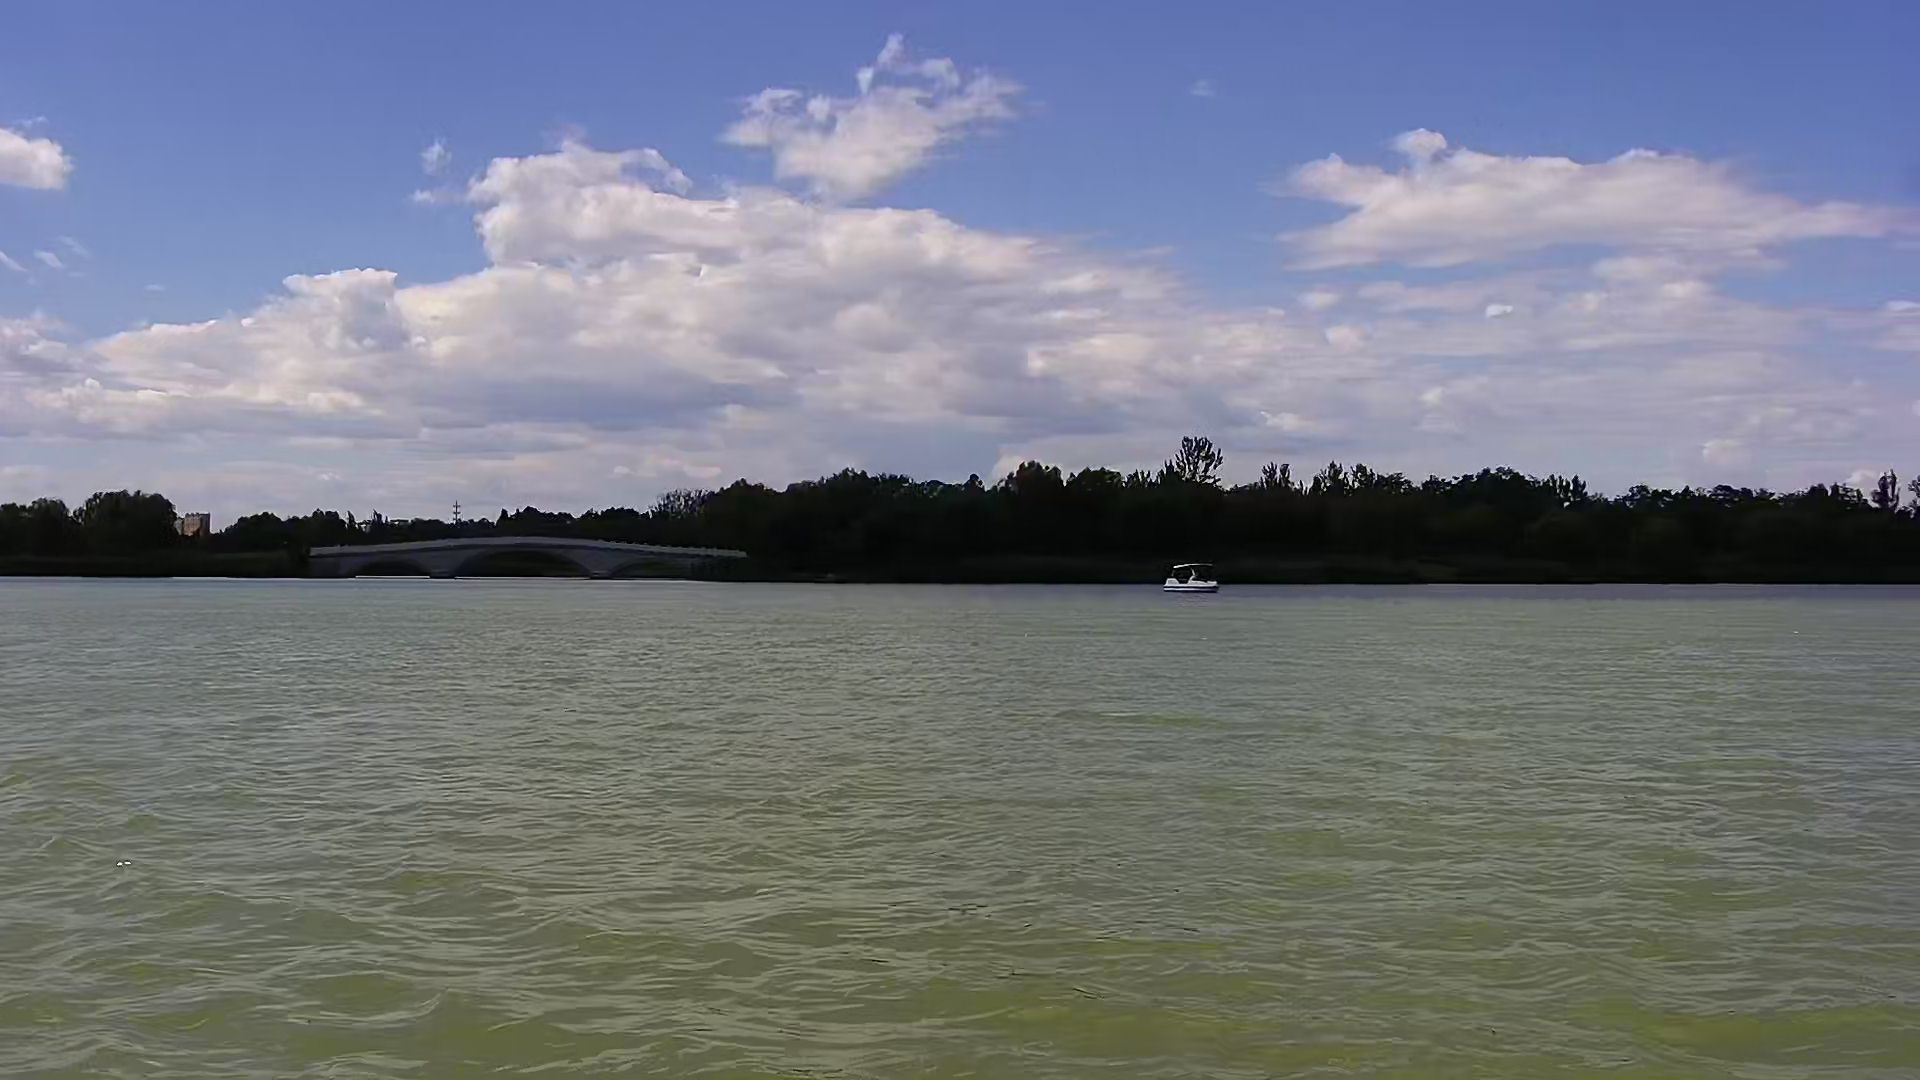boat: (1163, 554, 1222, 607)
bridge: (310, 531, 744, 580)
